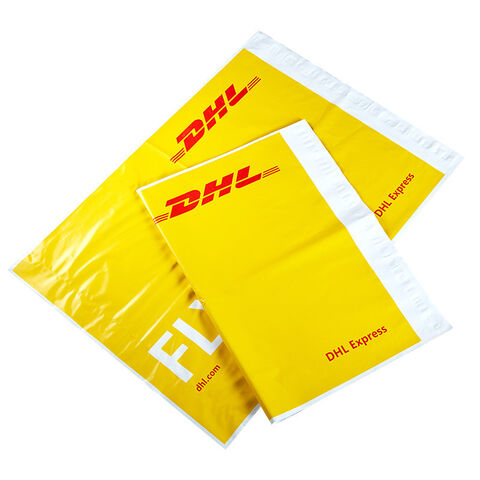塑料袋: (15, 36, 455, 442)
